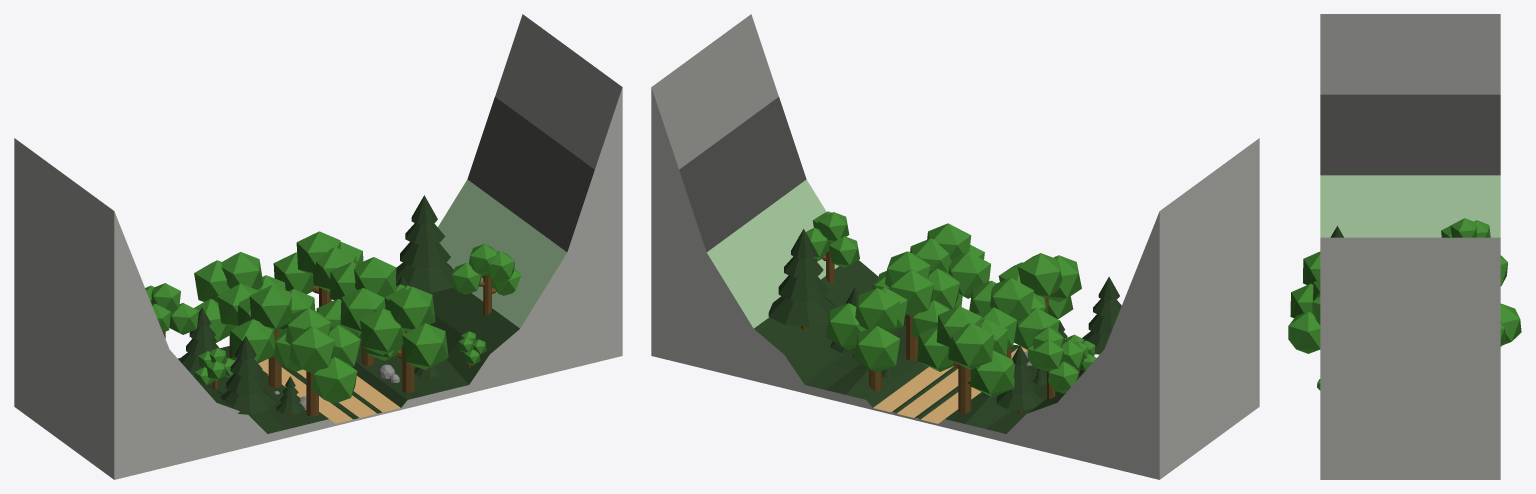
File: Forest1.fbx
3 renders of one model, left to right at view 1: azimuth 30°, elevation 25°; view 2: azimuth 150°, elevation 25°; view 3: azimuth 270°, elevation 25°, orthographic. The views are drawn at different scales.
Visible parts, largest first — view 1: Land, Tree5, Tree, Tree1, Tree3, Tree4, Tree2, Ctree, Tree10, Ctree4, Tree6, Ctree5 (+2 smaller); view 2: Land, Tree3, Tree2, Tree1, Ctree, Tree4, Tree, Tree5, Tree6, Tree10, Ctree5, Ctree4; view 3: Land, Tree, Tree5, Tree6, Tree2.
Part boxes in pixels (<box>): Land: <box>14,14,622,479</box>; Tree5: <box>273,308,360,416</box>; Tree: <box>360,285,448,393</box>; Tree1: <box>316,257,404,365</box>; Tree3: <box>191,252,285,358</box>; Tree4: <box>230,285,315,387</box>; Tree2: <box>273,231,363,306</box>; Ctree: <box>396,195,453,292</box>; Tree10: <box>450,244,521,315</box>; Ctree4: <box>220,336,275,414</box>; Tree6: <box>145,283,198,338</box>; Ctree5: <box>179,307,219,371</box>; Land: <box>651,14,1259,479</box>; Tree3: <box>917,306,1015,413</box>; Tree2: <box>825,287,907,391</box>; Tree1: <box>874,251,960,361</box>; Ctree: <box>768,229,836,330</box>; Tree4: <box>969,278,1059,358</box>; Tree: <box>910,223,990,307</box>; Tree5: <box>998,253,1081,319</box>; Tree6: <box>1027,327,1084,399</box>; Tree10: <box>806,211,859,283</box>; Ctree5: <box>996,345,1044,413</box>; Ctree4: <box>1082,276,1121,354</box>; Land: <box>1320,14,1500,479</box>; Tree: <box>1288,292,1320,353</box>; Tree5: <box>1290,251,1320,317</box>; Tree6: <box>1441,218,1490,237</box>; Tree2: <box>1500,303,1521,346</box>.
Size of the model in its own units: 5989 by 3028 by 2640.
Materials: 1 (1 with a texture image).
